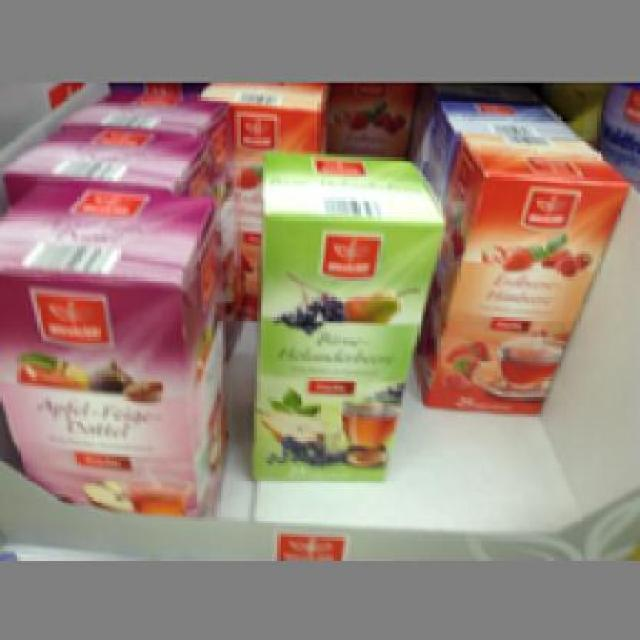Tea: (0, 179, 226, 512), (246, 149, 443, 480), (416, 134, 630, 414)
